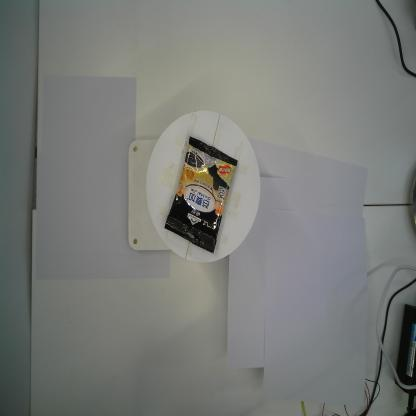Instant Drink: (164, 136, 238, 254)
